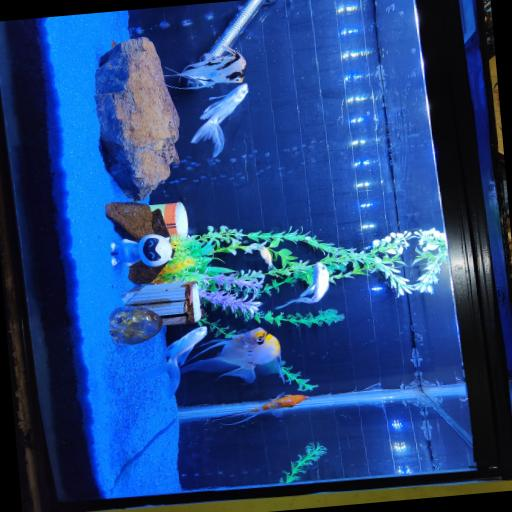Fish: (180, 327, 283, 382), (138, 326, 206, 396), (191, 83, 247, 156), (162, 46, 245, 88), (211, 392, 309, 424), (274, 262, 328, 308), (258, 243, 273, 269)
